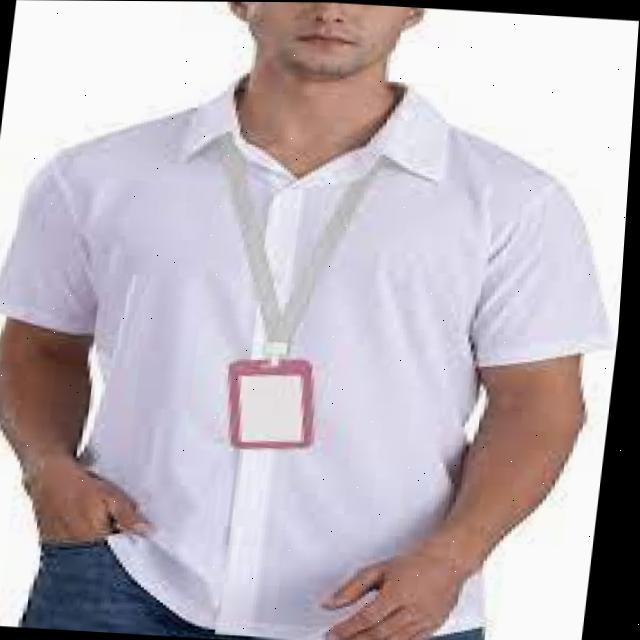id_card: (170, 116, 391, 459)
